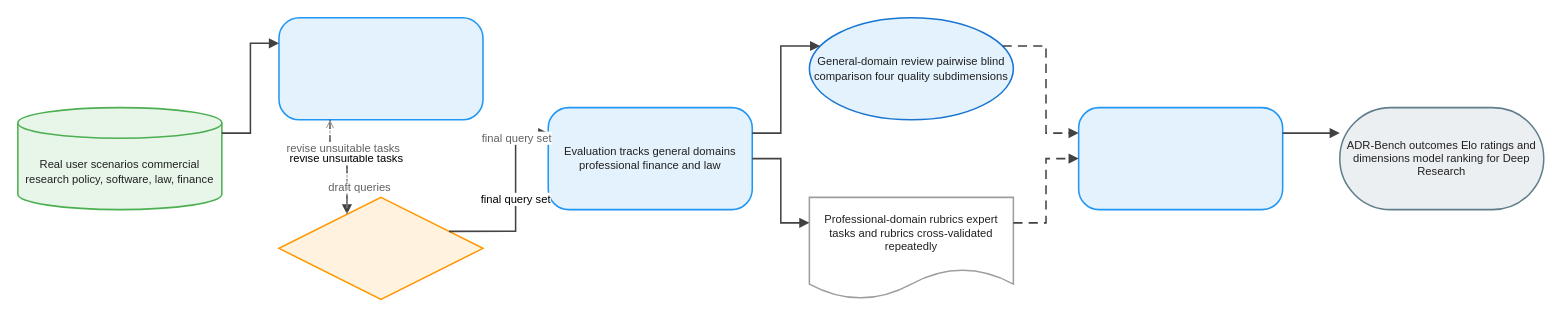
Some shapes in this 1563 by 318 pixel diagram are drawn without their labels. Here are the shapes that lost their labels. From the top down, the centre of each, then its label:
(x=380, y=68): Expert query drafting domain experts write initial Chinese tasks
(x=1180, y=158): Model research reports generated for each query scored by track protocol
(x=380, y=248): Multi-round testing filter and revise queries for Deep Research suitability
